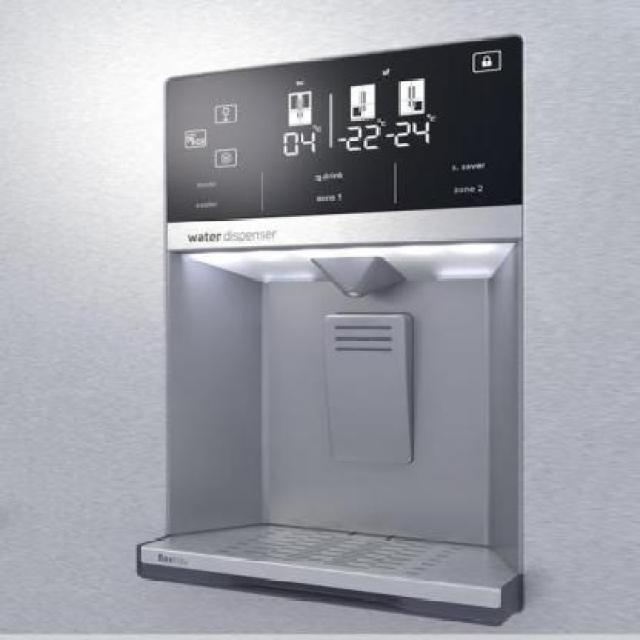cooler: (135, 27, 537, 628)
